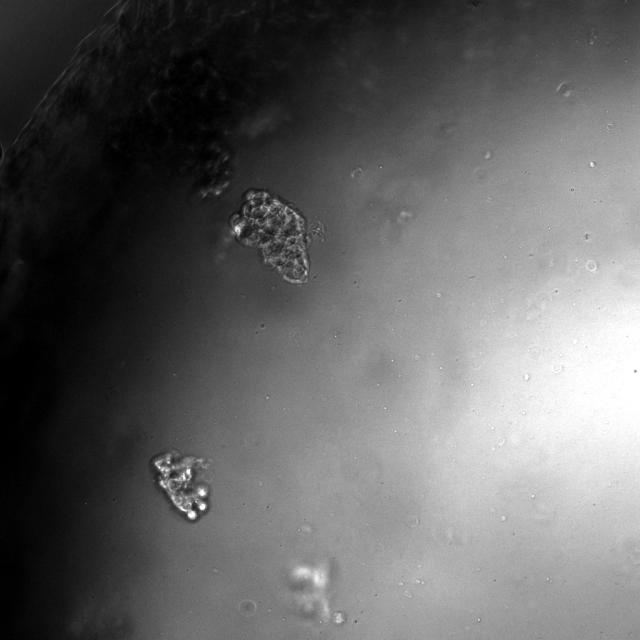organoid: (230, 189, 324, 284), (152, 450, 208, 520), (285, 561, 333, 622), (192, 142, 232, 199)
